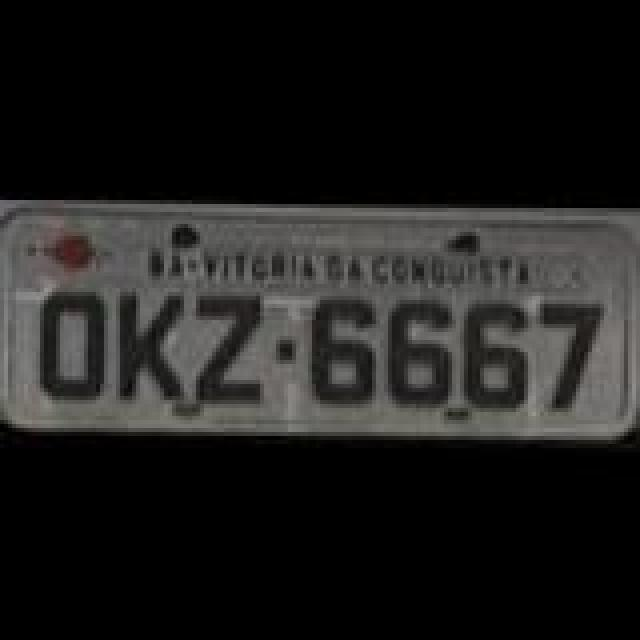6: (384, 290, 456, 406), (460, 300, 532, 416), (312, 290, 376, 406)
7: (540, 294, 604, 406)
K: (120, 286, 192, 406)
O: (38, 288, 106, 408)
Z: (198, 294, 266, 406)
